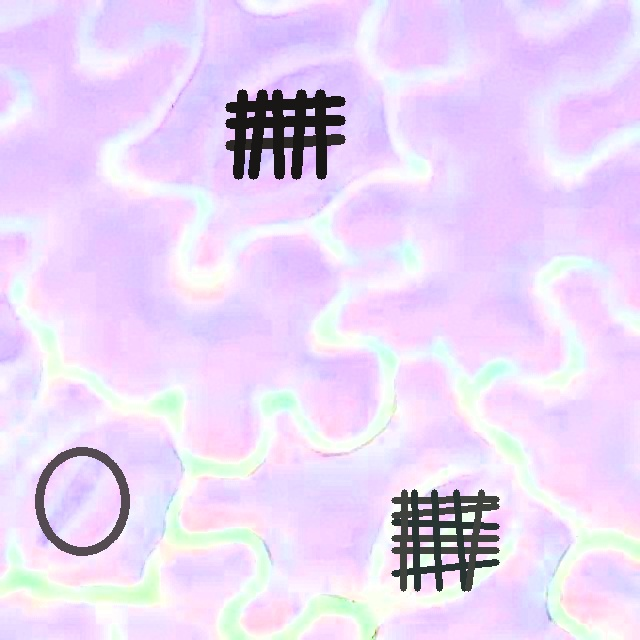open: (391, 489, 498, 591), (225, 89, 344, 178), (34, 446, 129, 556)
